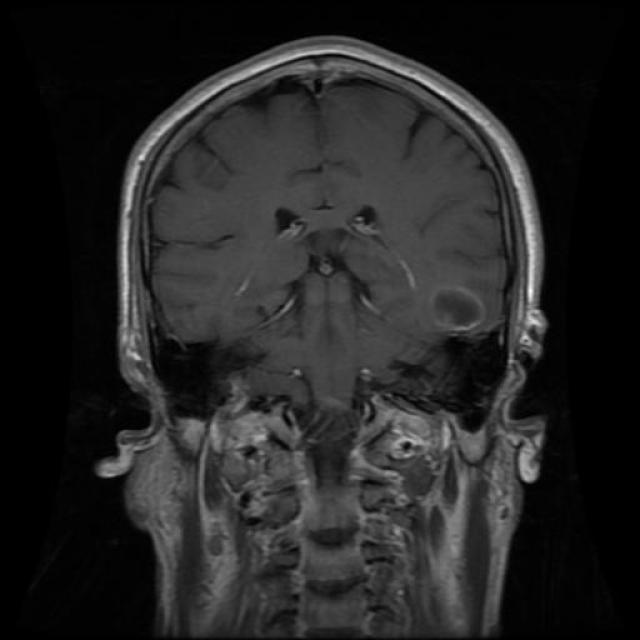glioma: (425, 280, 489, 338)
